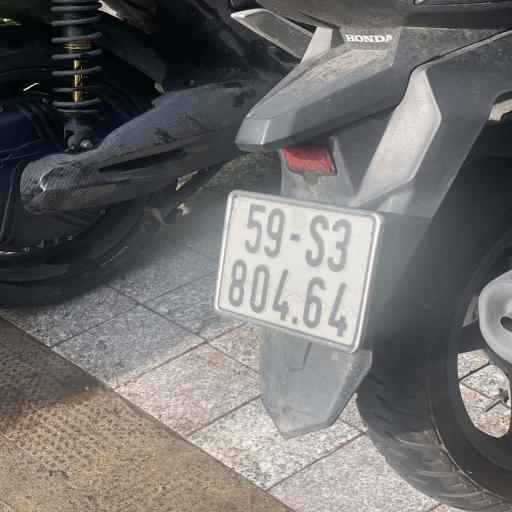0: (248, 263, 270, 316)
3: (330, 216, 360, 287)
4: (328, 278, 363, 346), (273, 268, 303, 330)
5: (238, 198, 268, 256)
6: (299, 272, 329, 330)
8: (217, 254, 252, 314)
9: (264, 202, 288, 261)
S: (300, 206, 330, 279)
